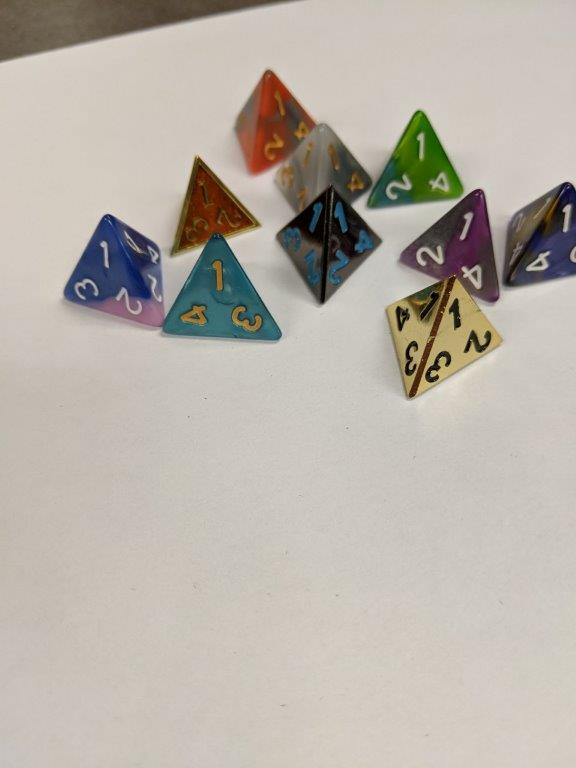d4-1: (383, 274, 510, 402), (159, 231, 282, 345), (396, 187, 505, 313), (58, 210, 169, 331), (274, 182, 379, 305), (366, 108, 466, 216), (229, 67, 319, 182), (272, 125, 370, 215), (169, 155, 259, 250), (507, 177, 576, 291)
